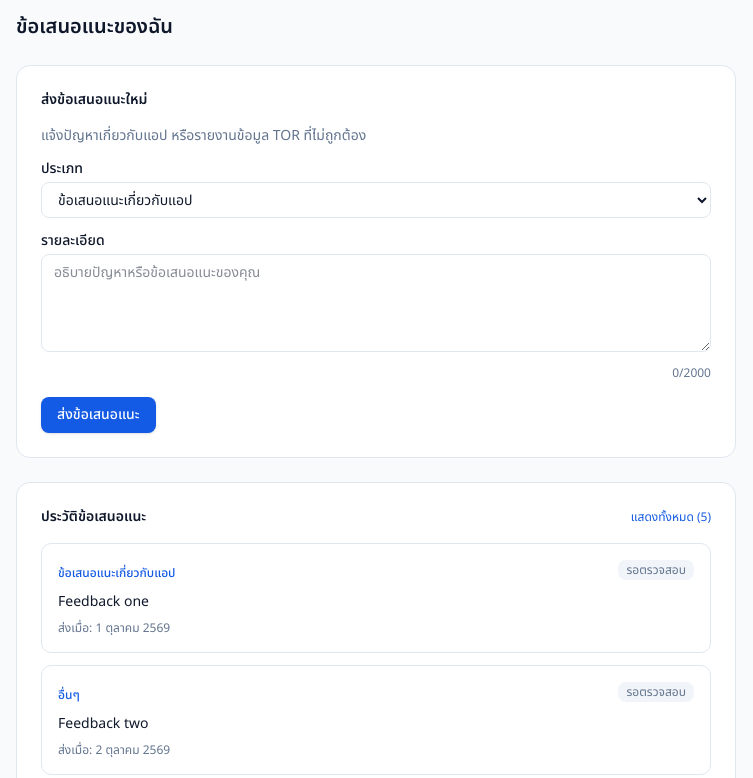
it: My Feedback page › validates the minimum description length before submitting
Expected: the text "Feedback one" is shown, [58, 591, 149, 612]
Type "short" into the text box labelled "รายละเอียด" at (376, 303), box [41, 254, 711, 352]
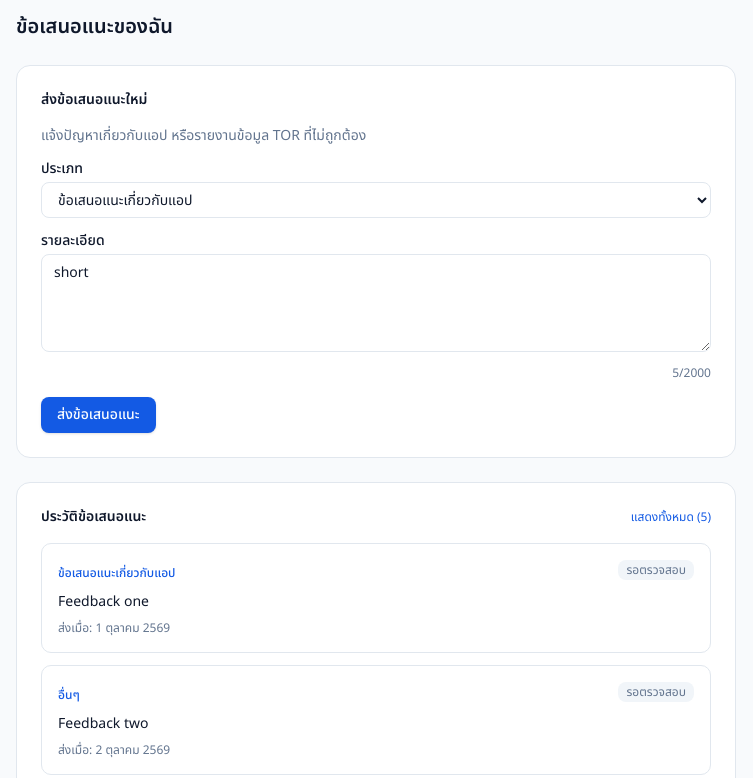
Click the button "ส่งข้อเสนอแนะ" at (98, 415), box [41, 397, 156, 433]
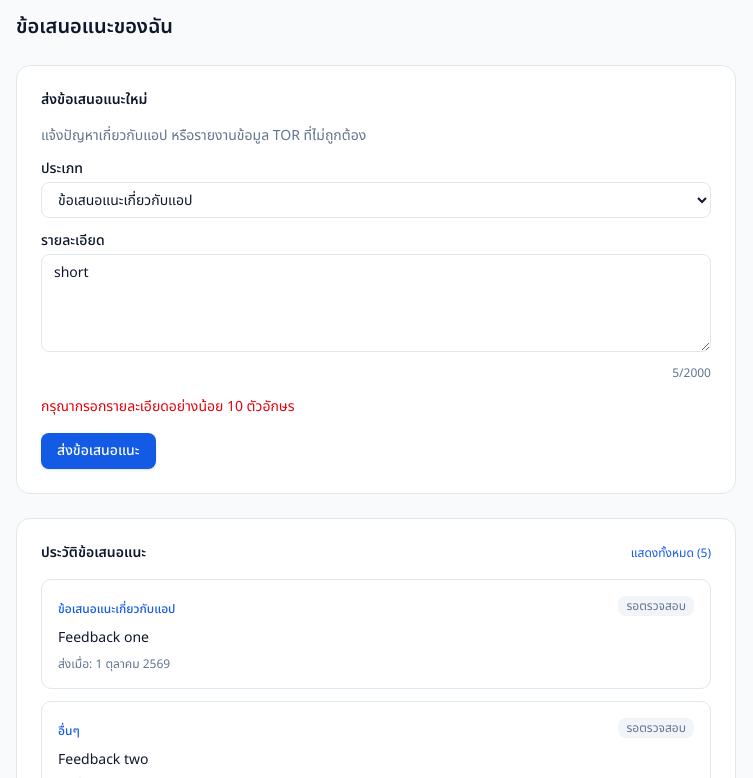
Expected: the text "กรุณากรอกรายละเอียดอย่างน้อย 10 ตัวอักษร" is shown, [41, 396, 295, 417]
